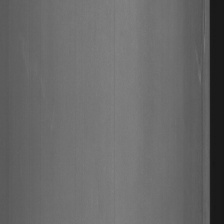silk_spot: (195, 3, 208, 86)
